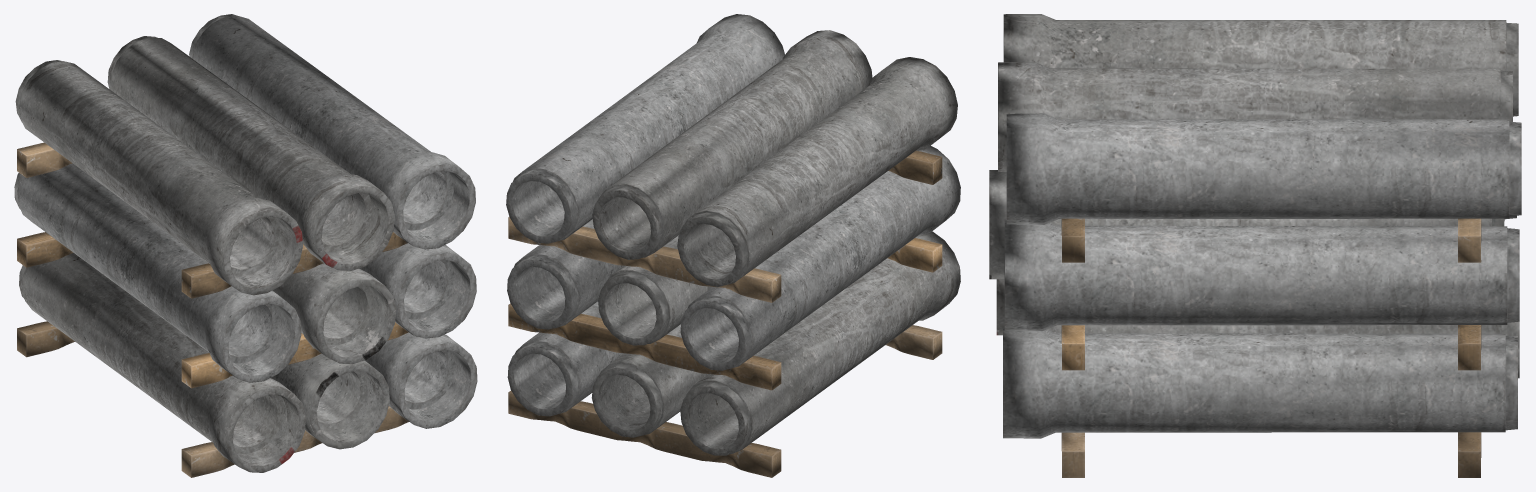
Rendered from pipes.glb.
3 views of the same model, side by side, from view 1: azimuth 30°, elevation 25°; view 2: azimuth 150°, elevation 25°; view 3: azimuth 270°, elevation 25° (orthographic). The views are drawn at different scales.
Visible parts, largest first — view 1: pipe_stack_planks_pipe1_0, pipe_stack_planks_pipe3_0, pipe_stack_planks_pipe2_0, pipe_stack_planks_plank1_0, pipe_stack_planks_plank2_0, pipe_stack_planks_plank3_0, pipe_stack_planks_plank6_0, pipe_stack_planks_plank5_0, pipe_stack_planks_plank4_0; view 2: pipe_stack_planks_pipe1_0, pipe_stack_planks_pipe3_0, pipe_stack_planks_pipe2_0, pipe_stack_planks_plank5_0, pipe_stack_planks_plank6_0, pipe_stack_planks_plank4_0, pipe_stack_planks_plank1_0, pipe_stack_planks_plank2_0, pipe_stack_planks_plank3_0; view 3: pipe_stack_planks_pipe3_0, pipe_stack_planks_pipe1_0, pipe_stack_planks_pipe2_0, pipe_stack_planks_plank6_0, pipe_stack_planks_plank5_0, pipe_stack_planks_plank2_0, pipe_stack_planks_plank1_0, pipe_stack_planks_plank4_0, pipe_stack_planks_plank3_0.
Boxes of the visible parts, bbox=[...] form: pipe_stack_planks_pipe1_0: bbox=[15, 36, 394, 472]; pipe_stack_planks_pipe3_0: bbox=[14, 14, 477, 428]; pipe_stack_planks_pipe2_0: bbox=[271, 263, 396, 449]; pipe_stack_planks_plank1_0: bbox=[181, 406, 408, 477]; pipe_stack_planks_plank2_0: bbox=[181, 322, 408, 388]; pipe_stack_planks_plank3_0: bbox=[181, 232, 407, 298]; pipe_stack_planks_plank6_0: bbox=[17, 321, 74, 357]; pipe_stack_planks_plank5_0: bbox=[17, 232, 73, 267]; pipe_stack_planks_plank4_0: bbox=[17, 142, 72, 177]; pipe_stack_planks_pipe1_0: bbox=[592, 30, 960, 455]; pipe_stack_planks_pipe3_0: bbox=[506, 14, 960, 416]; pipe_stack_planks_pipe2_0: bbox=[591, 235, 712, 437]; pipe_stack_planks_plank5_0: bbox=[508, 303, 781, 390]; pipe_stack_planks_plank6_0: bbox=[508, 391, 781, 477]; pipe_stack_planks_plank4_0: bbox=[508, 217, 781, 302]; pipe_stack_planks_plank1_0: bbox=[886, 325, 942, 359]; pipe_stack_planks_plank2_0: bbox=[887, 238, 942, 272]; pipe_stack_planks_plank3_0: bbox=[888, 150, 942, 184]; pipe_stack_planks_pipe3_0: bbox=[1003, 113, 1521, 438]; pipe_stack_planks_pipe1_0: bbox=[996, 14, 1518, 335]; pipe_stack_planks_pipe2_0: bbox=[989, 170, 1519, 378]; pipe_stack_planks_plank6_0: bbox=[1458, 432, 1481, 477]; pipe_stack_planks_plank5_0: bbox=[1458, 325, 1481, 370]; pipe_stack_planks_plank2_0: bbox=[1061, 325, 1084, 370]; pipe_stack_planks_plank1_0: bbox=[1061, 432, 1084, 477]; pipe_stack_planks_plank4_0: bbox=[1458, 218, 1481, 262]; pipe_stack_planks_plank3_0: bbox=[1061, 218, 1084, 262].
Size of the model in its own units: 4.45 by 4.37 by 6.33.
Materials: 9 (9 with a texture image).
